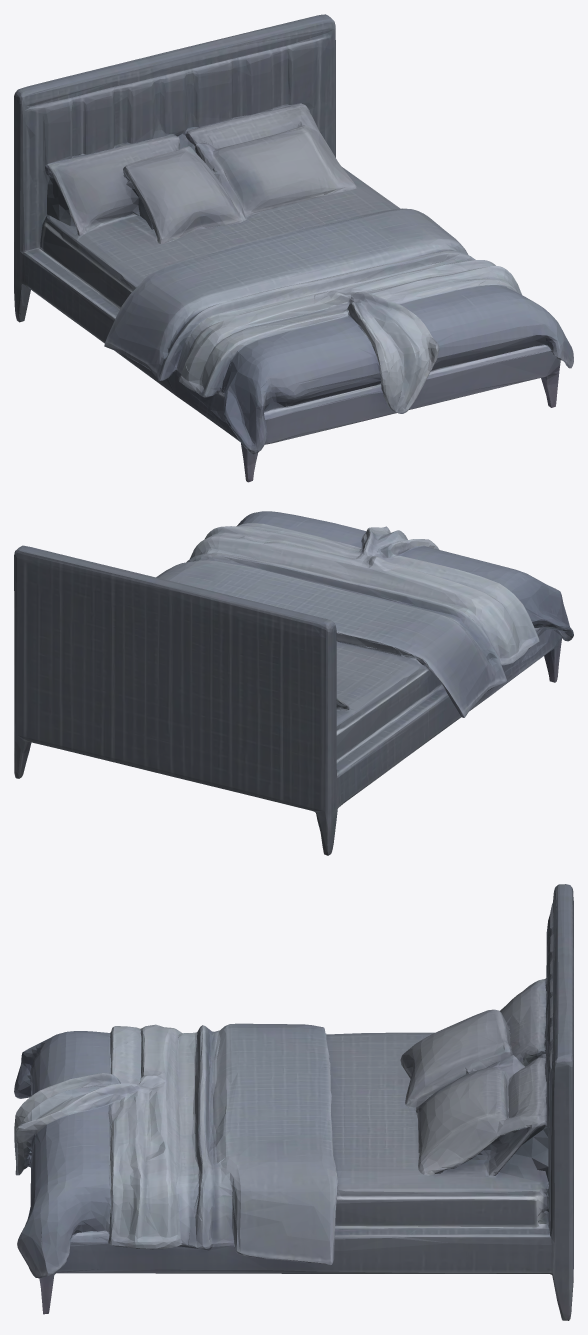
File: bed_double_grey.glb
The picture shows the model from 3 angles, top to bottom: view 1: azimuth 30°, elevation 25°; view 2: azimuth 150°, elevation 25°; view 3: azimuth 270°, elevation 25°; orthographic projection. The views are drawn at different scales.
Visible parts, largest first — view 1: geometry_0; view 2: geometry_0; view 3: geometry_0.
Boxes of the visible parts, x1,y1,x2,y2 form: geometry_0: (14,14,573,482); geometry_0: (14,511,573,855); geometry_0: (14,884,573,1320).
Size of the model in its own units: 0.8554 by 0.524 by 0.9999.
Materials: 1 (1 with a texture image).
